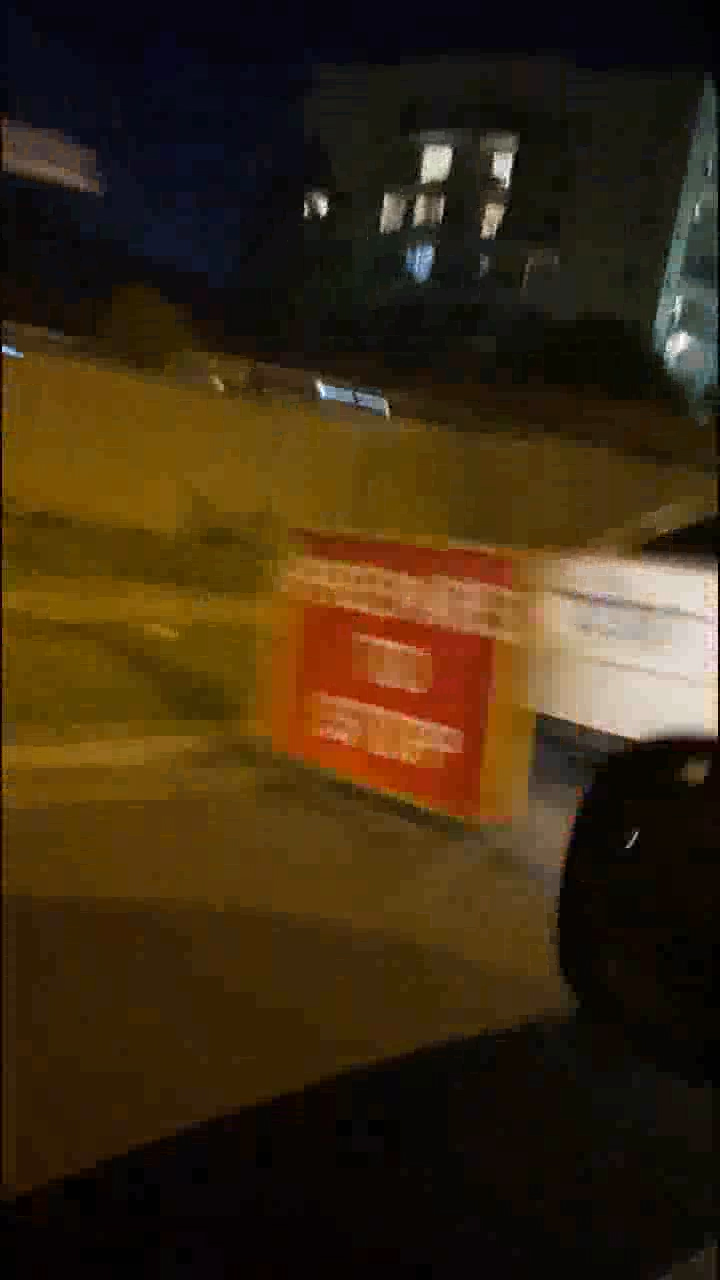prepare to stop board: (243, 530, 527, 760)
